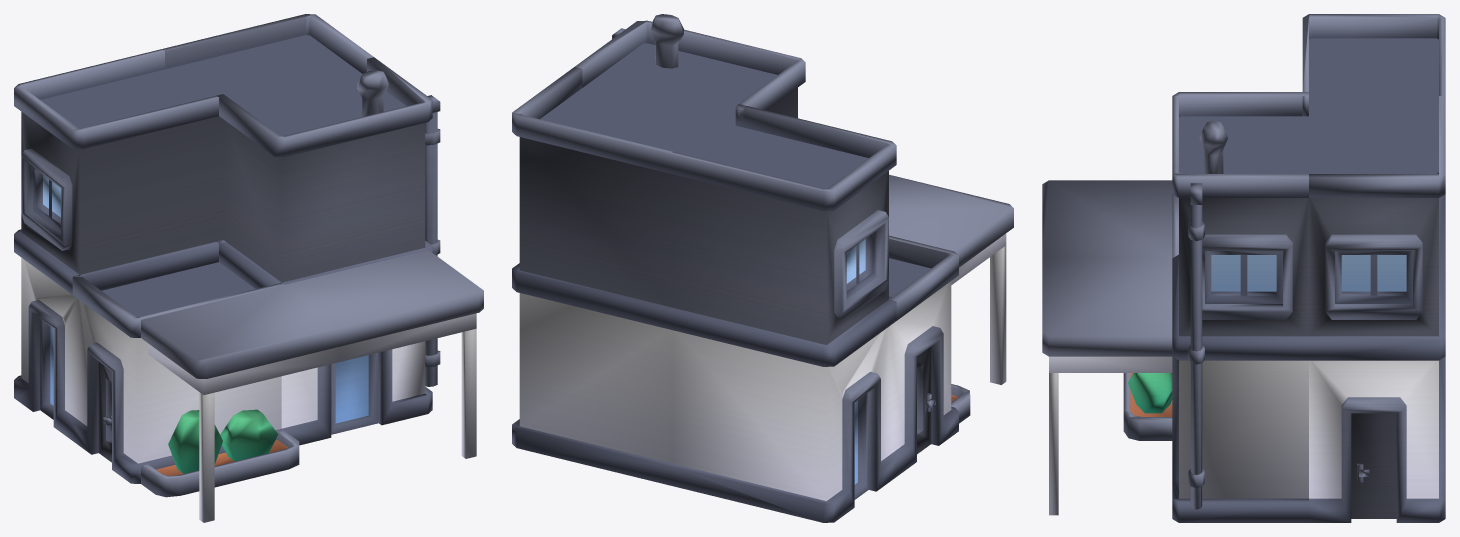
The model's file is n1_building-type-q_lev1.glb.
3 renders of one model, left to right at view 1: azimuth 30°, elevation 25°; view 2: azimuth 150°, elevation 25°; view 3: azimuth 270°, elevation 25°, orthographic. The views are drawn at different scales.
Parts seen in each view (by area): view 1: n1_building-type-q_lev1; view 2: n1_building-type-q_lev1; view 3: n1_building-type-q_lev1.
Boxes of the visible parts, x1,y1,x2,y2 form: n1_building-type-q_lev1: [14, 14, 483, 522]; n1_building-type-q_lev1: [512, 14, 1013, 522]; n1_building-type-q_lev1: [1042, 14, 1445, 522].
Size of the model in its own units: 6.86 by 6.91 by 6.77.
Materials: 1 (1 with a texture image).
